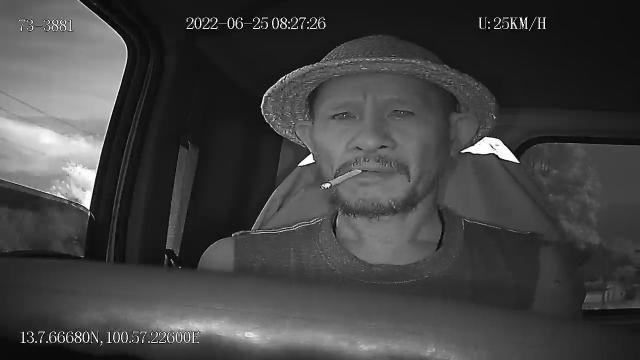SafeDriving: (382, 99, 422, 123), (324, 102, 362, 124)
Smoking: (319, 166, 363, 192)
